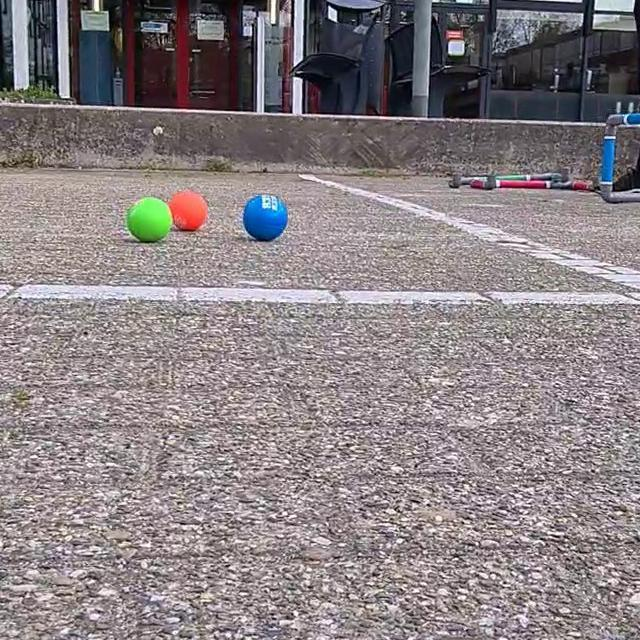ball: (240, 192, 290, 241), (124, 195, 174, 243), (168, 187, 210, 233)
